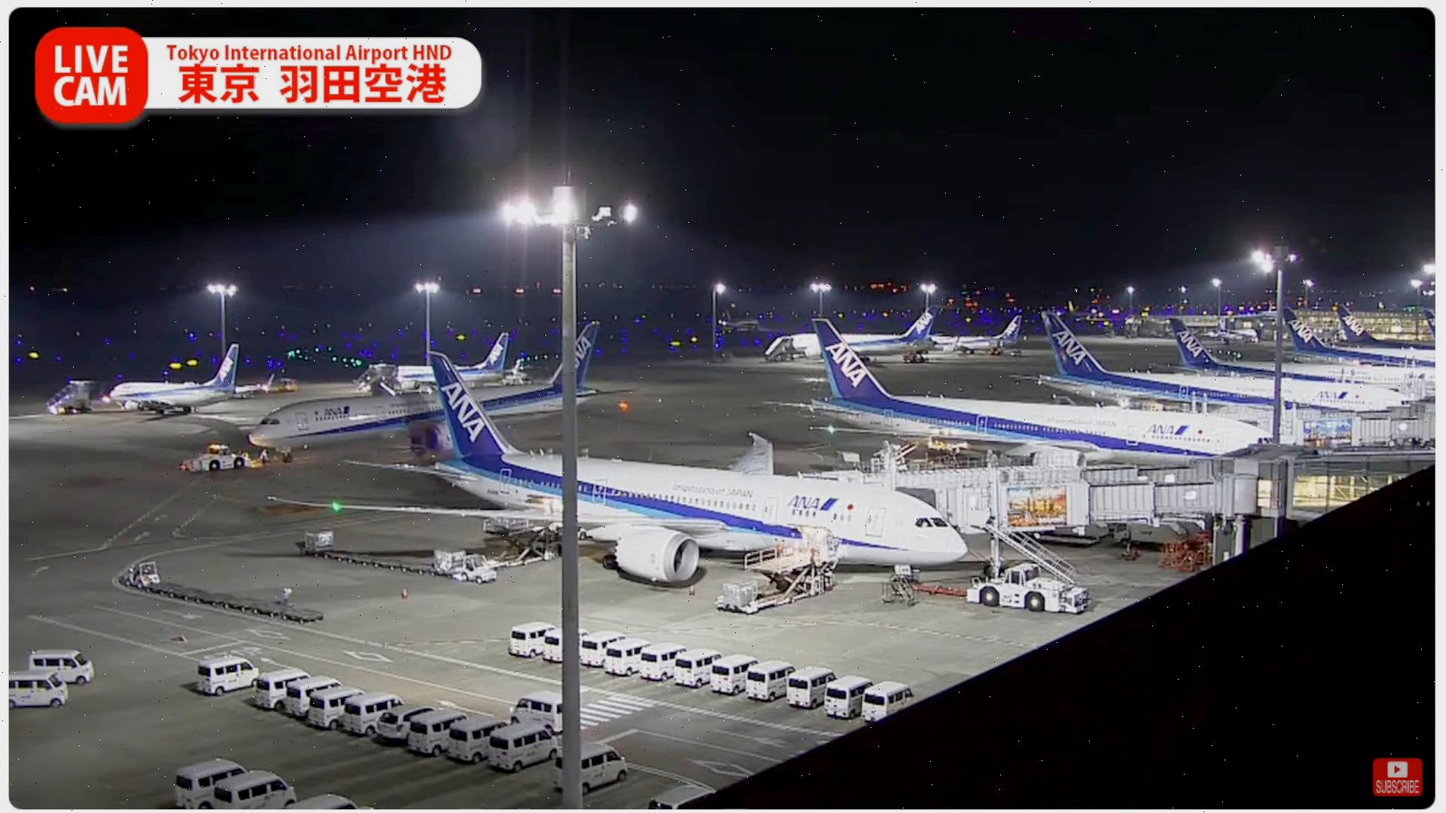APS: (971, 563, 1097, 616)
Aerobridge: (895, 475, 1256, 534), (800, 456, 1224, 487)
Airplane: (269, 351, 970, 589)
Dolly: (143, 581, 324, 624), (304, 532, 465, 577)
JCPL: (718, 560, 837, 613), (482, 524, 559, 572), (747, 584, 750, 584)
Tractor: (116, 561, 161, 589), (460, 556, 501, 584)
Window: (1290, 455, 1437, 521)
